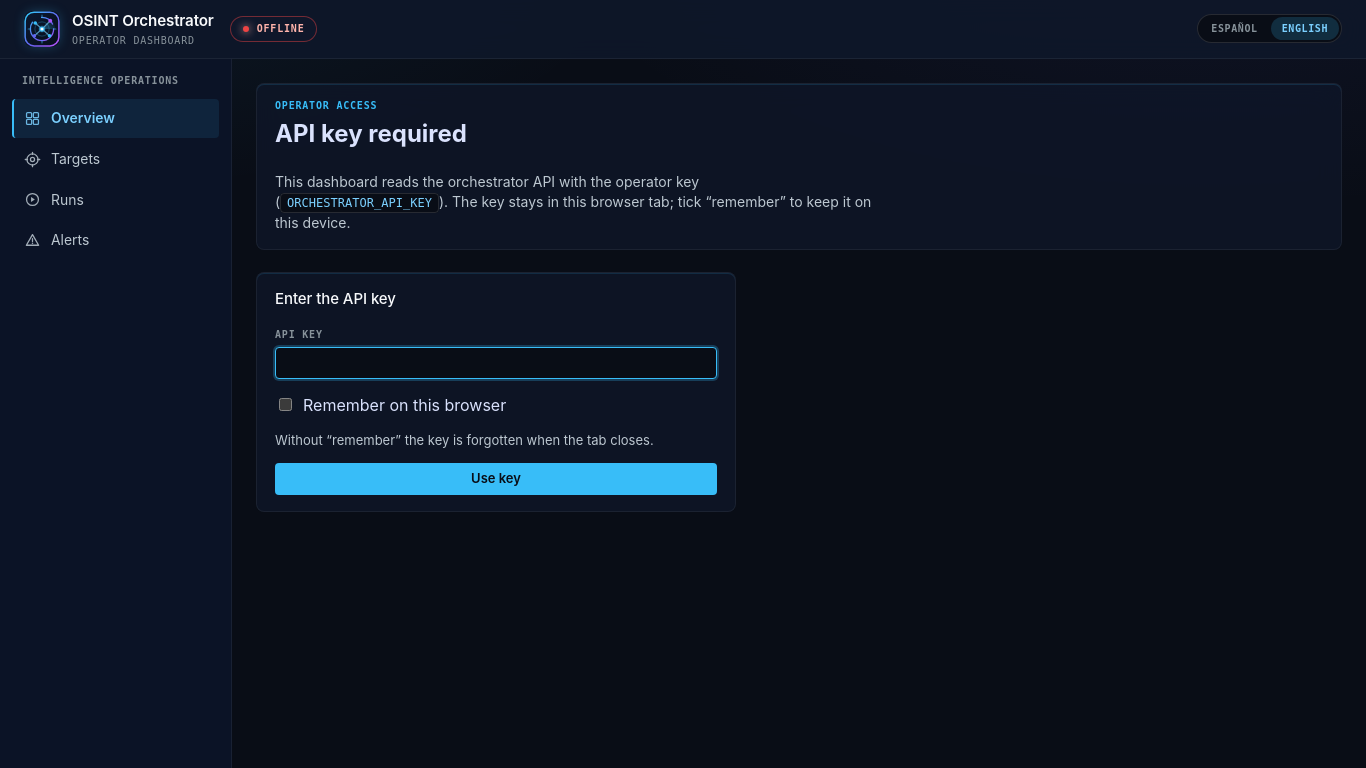
Test case: App shell › remembers the key on this browser when asked to
Step 1. Type "test-key" into the password field labelled "API key" → point(496, 363), box [275,347,717,379]
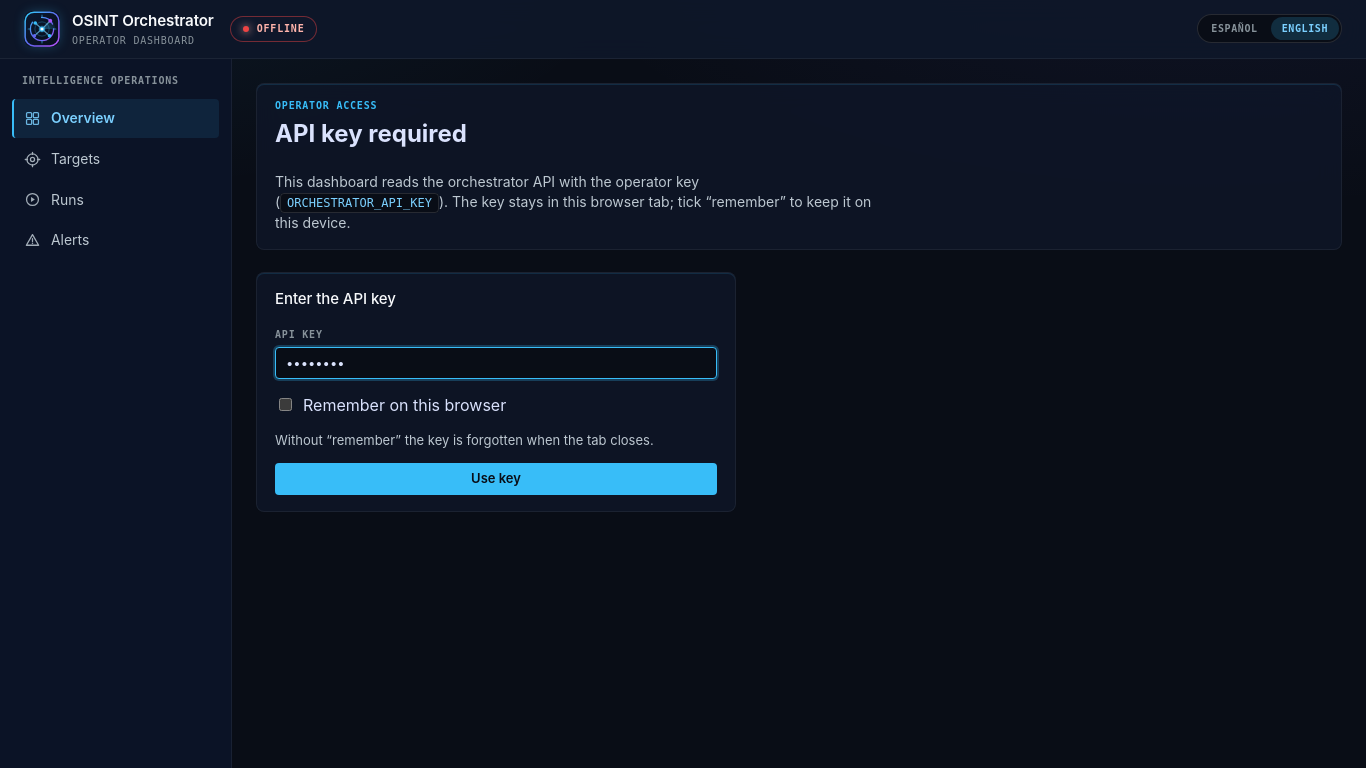
Step 2. Click the checkbox labelled "Remember on this browser" → point(286, 405), box [279,398,292,411]
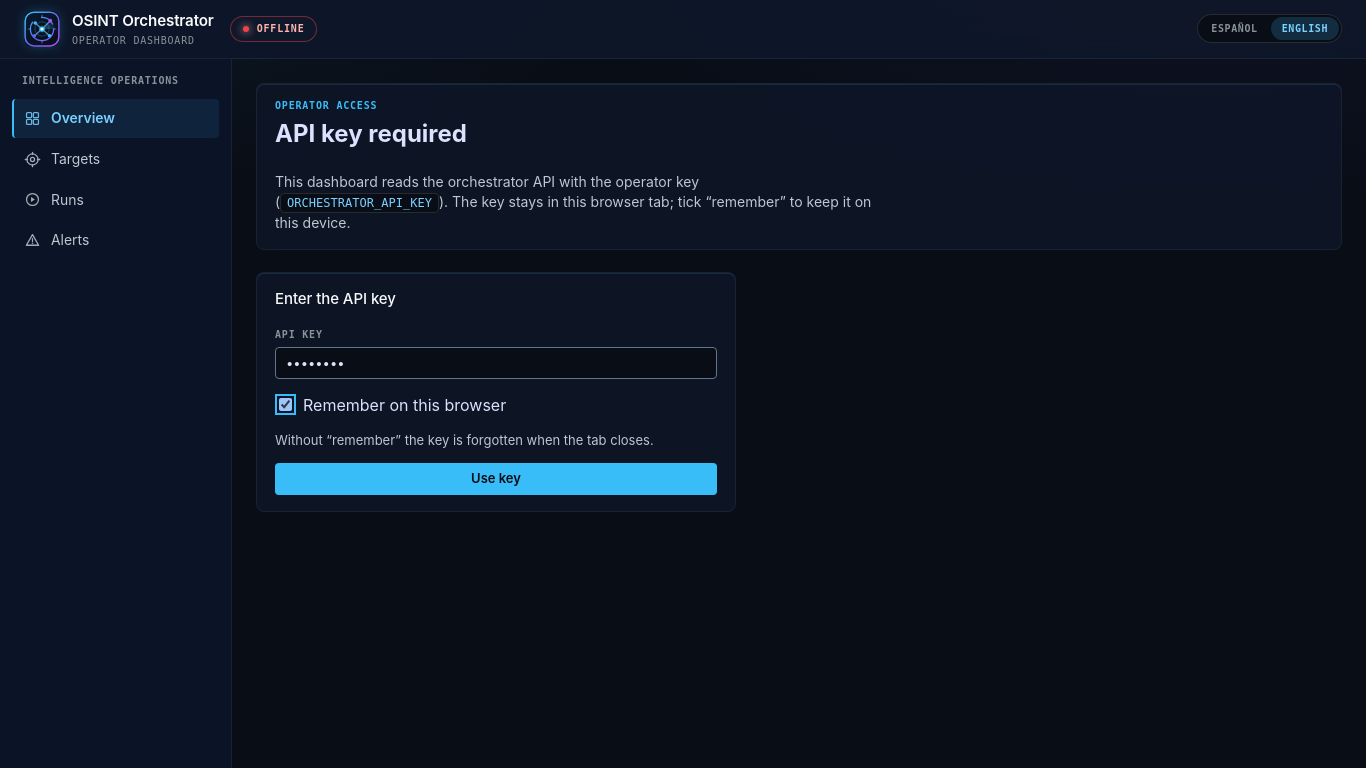
Step 3. Click the button "Use key" → point(496, 479), box [275,463,717,495]
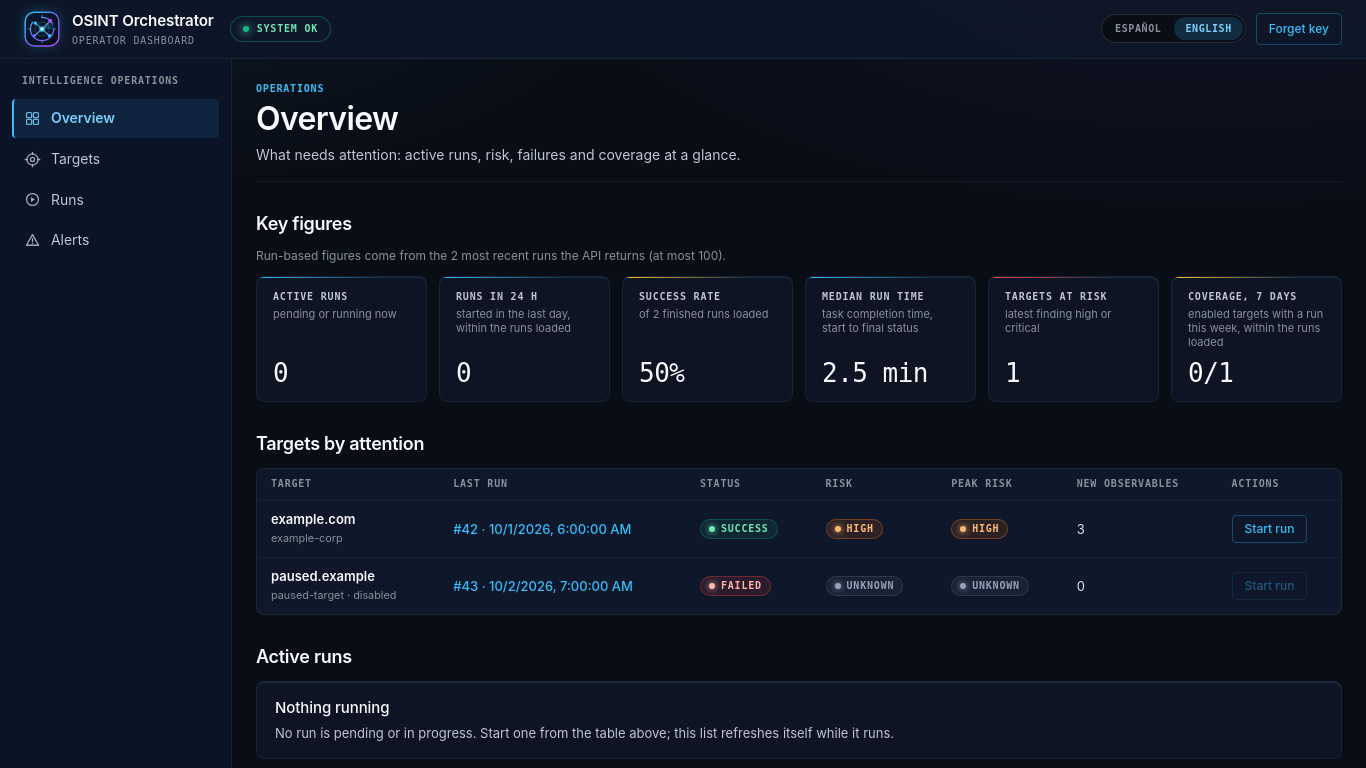
Now the heading "Overview" is shown, box [256,99,398,138]
